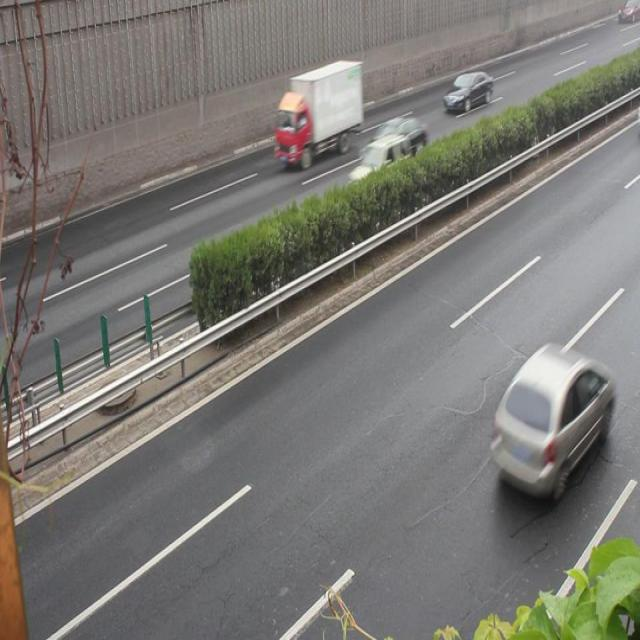car: (490, 341, 611, 497), (346, 133, 412, 204), (358, 116, 426, 174), (441, 70, 491, 114)
